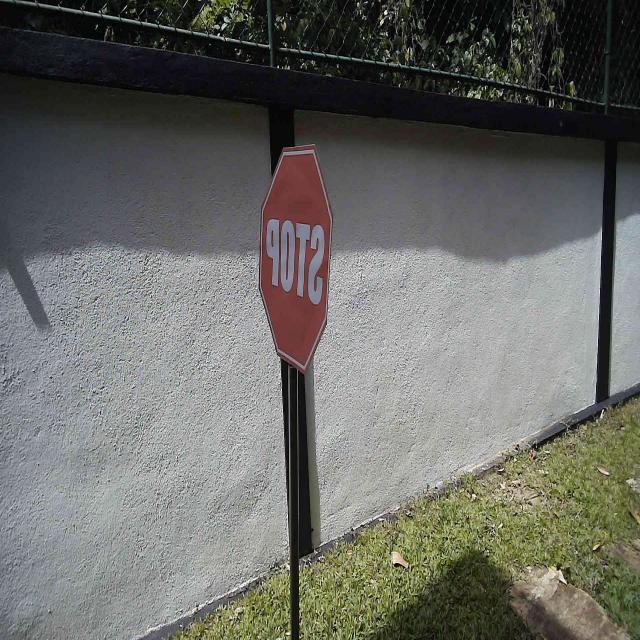stop: (256, 138, 336, 378)
